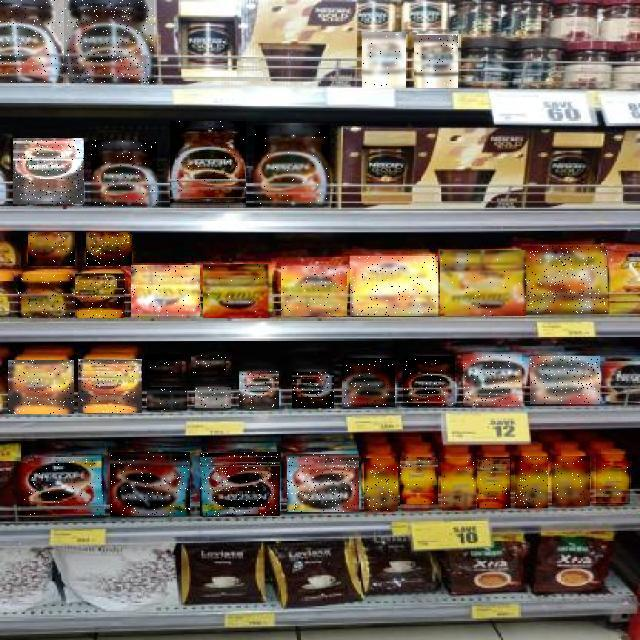Coffee: (64, 0, 154, 83), (171, 122, 247, 208), (255, 125, 331, 206), (440, 250, 526, 316), (524, 246, 607, 314), (350, 256, 438, 316), (0, 0, 63, 83), (110, 452, 190, 516), (200, 452, 280, 516), (21, 458, 104, 516), (13, 139, 84, 205), (91, 140, 157, 206), (287, 454, 359, 512), (204, 264, 272, 318), (131, 266, 200, 318), (9, 360, 75, 414), (78, 359, 142, 413), (531, 356, 601, 404), (281, 266, 347, 316), (463, 354, 522, 406), (403, 357, 455, 407), (342, 358, 395, 407), (362, 32, 406, 88), (18, 274, 73, 318), (76, 273, 128, 318), (414, 35, 458, 88), (552, 456, 590, 506), (400, 458, 438, 508), (478, 457, 514, 508), (364, 458, 398, 511), (442, 458, 476, 510), (515, 457, 548, 509), (596, 454, 630, 504), (28, 232, 75, 266), (86, 232, 132, 266), (239, 371, 279, 409), (292, 372, 334, 408), (147, 387, 187, 410), (146, 354, 184, 375), (195, 387, 231, 408), (191, 356, 226, 374)
